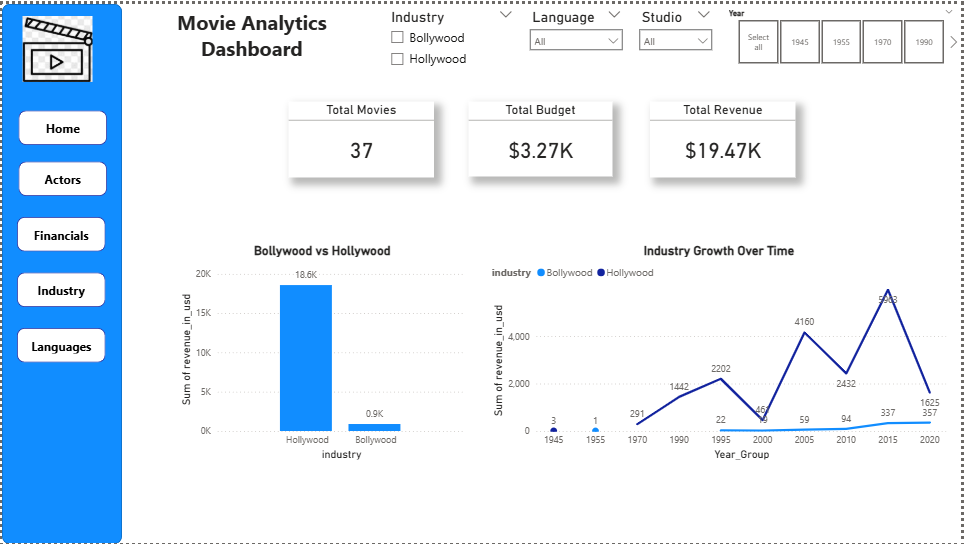

This screenshot's page, from the dashboard's own definition file:
{"tool":"powerbi","page":{"name":"Industry Analysis","canvas":[1280,720],"ordinal":4},"visuals":[{"type":"shape","box":[0,0,160,720],"z":0},{"type":"lineChart","title":"Industry Growth Over Time","fields":{"Category":["movie_db movies.Year_Group"],"Y":["Sum(movie_db financials.revenue_in_usd)"],"Series":["movie_db movies.industry"]},"box":[648,318,616,294],"z":1000},{"type":"clusteredColumnChart","title":"Bollywood vs Hollywood","fields":{"Category":["movie_db movies.industry"],"Y":["Sum(movie_db financials.revenue_in_usd)"]},"box":[232,318,390,294],"z":2000},{"type":"slicer","fields":{"Values":["movie_db movies.industry"]},"box":[506.7,0,186.7,103.3],"z":3000},{"type":"slicer","fields":{"Values":["movie_db languages.name"]},"box":[693.3,0,143.3,103.3],"z":4000},{"type":"slicer","fields":{"Values":["movie_db movies.studio"]},"box":[840,0,116.7,103.3],"z":5000},{"type":"slicer","fields":{"Values":["movie_db movies.Year_Group"]},"box":[956,0,324,86],"z":6000},{"type":"textbox","box":[160,0,346,104],"z":7000},{"type":"image","box":[10,16,128,88],"z":8000},{"type":"actionButton","title":"Financials","box":[22,142,118,46],"z":9000},{"type":"actionButton","title":"Financials","box":[22,210,118,46],"z":10000},{"type":"actionButton","title":"Financials","box":[20,284,118,46],"z":11000},{"type":"actionButton","title":"Financials","box":[20,358,118,46],"z":12000},{"type":"actionButton","title":"Financials","box":[20,432,118,46],"z":13000},{"type":"card","title":"Total Movies","fields":{"Values":["movie_db actors.Total_Movies_By_Actor"]},"box":[382.1,129.5,194.2,101.1],"z":14000},{"type":"card","title":"Total Budget","fields":{"Values":["Sum(movie_db financials.budget_in_usd)"]},"box":[622,130,192,100],"z":15000},{"type":"card","title":"Total Revenue","fields":{"Values":["Sum(movie_db financials.revenue_in_usd)"]},"box":[863.7,129.5,194.2,101.1],"z":16000}]}

Visuals, with their boxes in screenshot pixels (x1, y1, x2, y2), scaled from the page's 1280x720 canvas onto the 964x544 screenshot:
shape: x1=0, y1=0, x2=120, y2=543
"Industry Growth Over Time" lineChart: x1=488, y1=240, x2=952, y2=462
"Bollywood vs Hollywood" clusteredColumnChart: x1=175, y1=240, x2=468, y2=462
slicer - movie_db movies.industry: x1=382, y1=0, x2=522, y2=78
slicer - movie_db languages.name: x1=522, y1=0, x2=630, y2=78
slicer - movie_db movies.studio: x1=633, y1=0, x2=721, y2=78
slicer - movie_db movies.Year_Group: x1=720, y1=0, x2=963, y2=65
textbox: x1=120, y1=0, x2=381, y2=79
image: x1=8, y1=12, x2=104, y2=79
"Financials" actionButton: x1=17, y1=107, x2=105, y2=142
"Financials" actionButton: x1=17, y1=159, x2=105, y2=193
"Financials" actionButton: x1=15, y1=215, x2=104, y2=249
"Financials" actionButton: x1=15, y1=270, x2=104, y2=305
"Financials" actionButton: x1=15, y1=326, x2=104, y2=361
"Total Movies" card: x1=288, y1=98, x2=434, y2=174
"Total Budget" card: x1=468, y1=98, x2=613, y2=174
"Total Revenue" card: x1=650, y1=98, x2=797, y2=174
